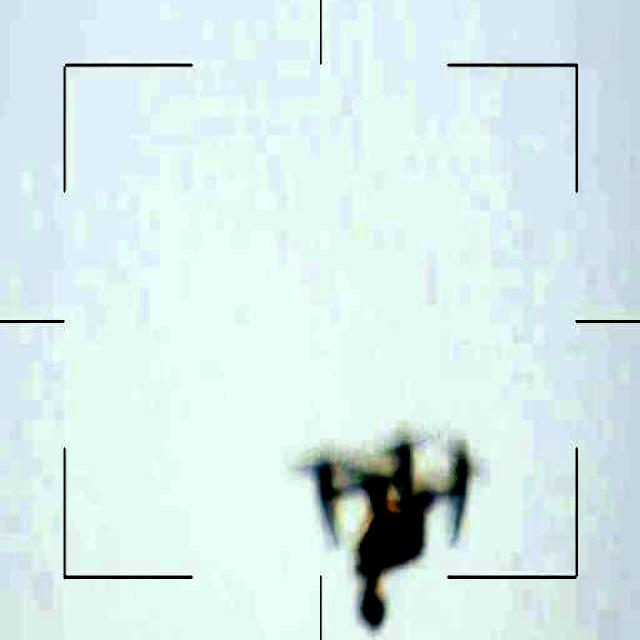bird: (301, 434, 492, 634)
